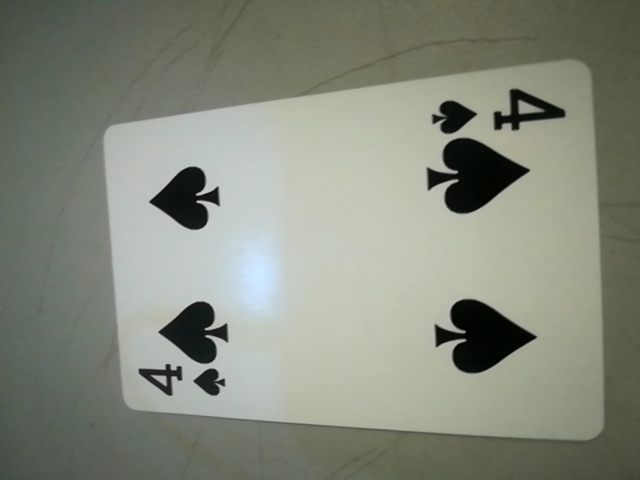ht 4: (420, 86, 571, 140)
